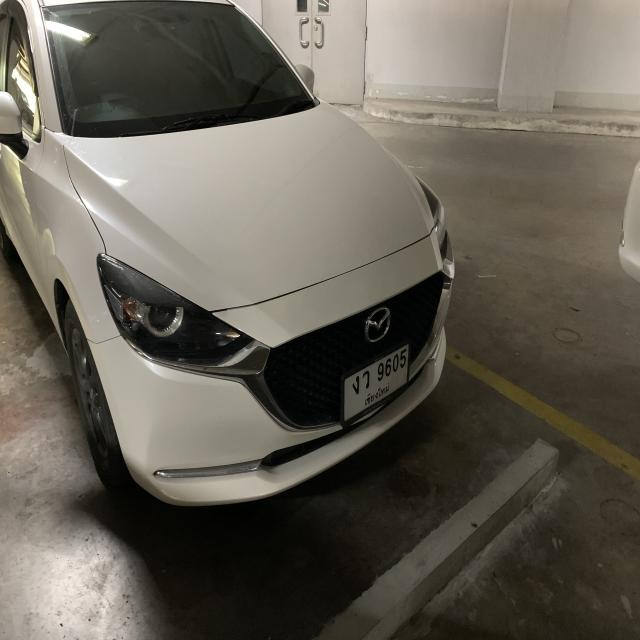license_plate: (340, 337, 413, 428)
